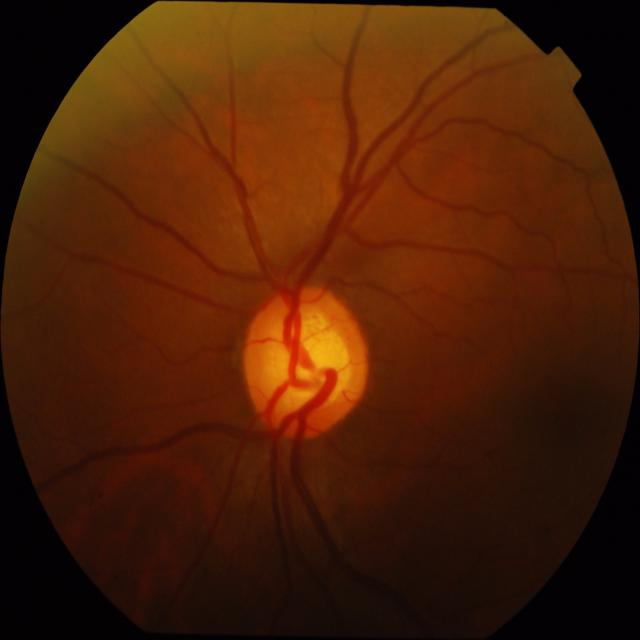OC: (271, 313, 352, 407)
OD: (242, 285, 370, 440)
